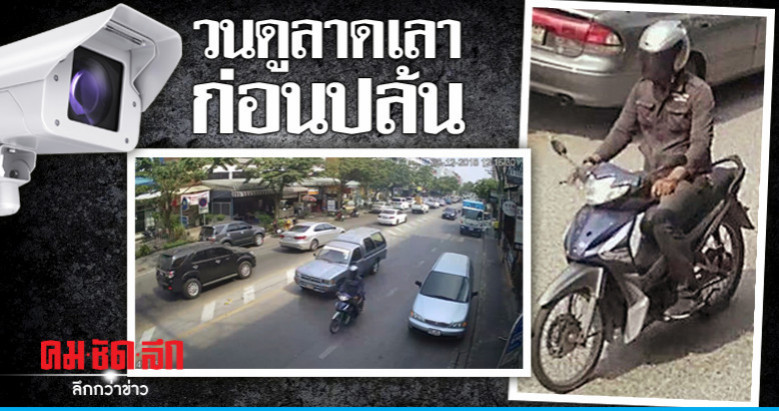Helmet: (623, 17, 711, 91), (346, 262, 366, 279)
motorcycle: (528, 141, 764, 377), (327, 290, 375, 334)
